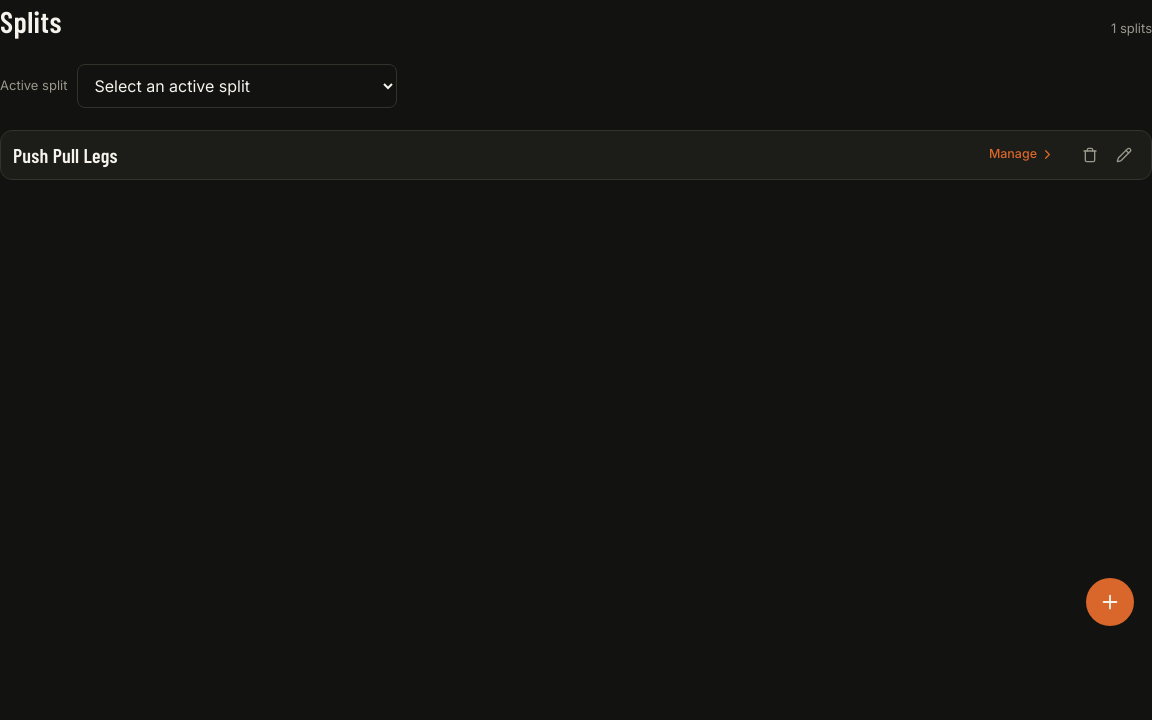
Split builder › creates a split for the signed-in user and shows it after the list refreshes
Step 1. Click the button named "Add split" → [1110, 602], box [1086, 578, 1134, 626]
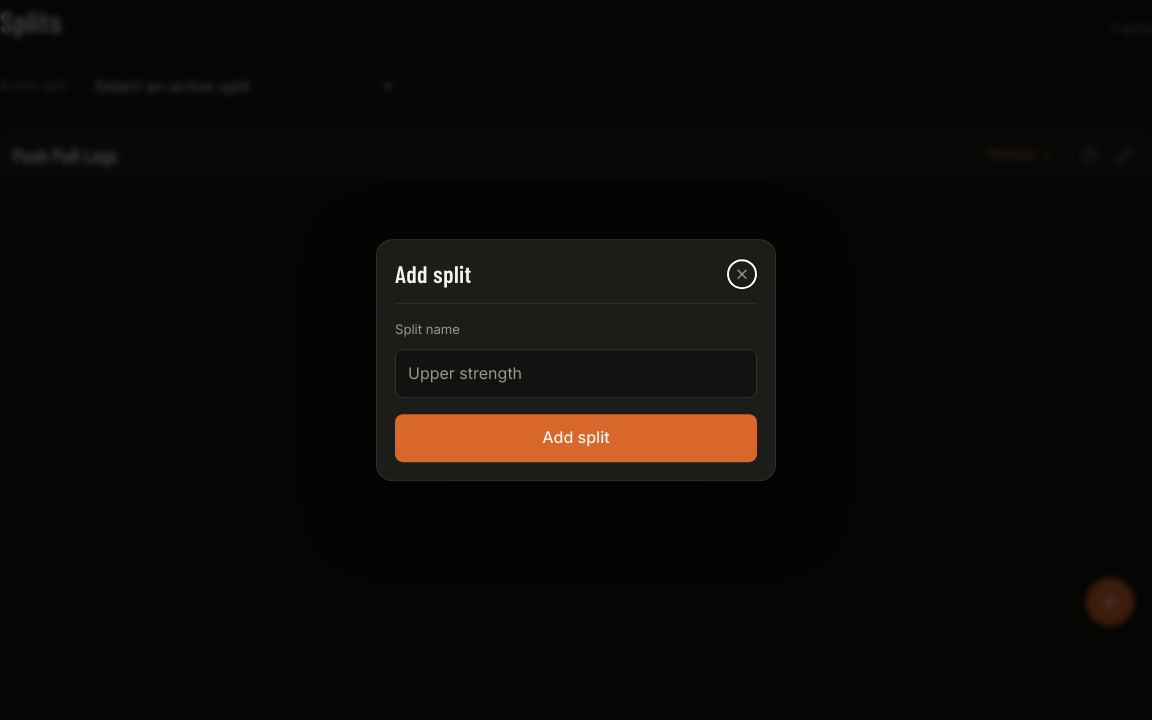
Step 2. Type "  Upper Lower " into the field labelled "Split name" → [576, 374], box [395, 349, 757, 399]
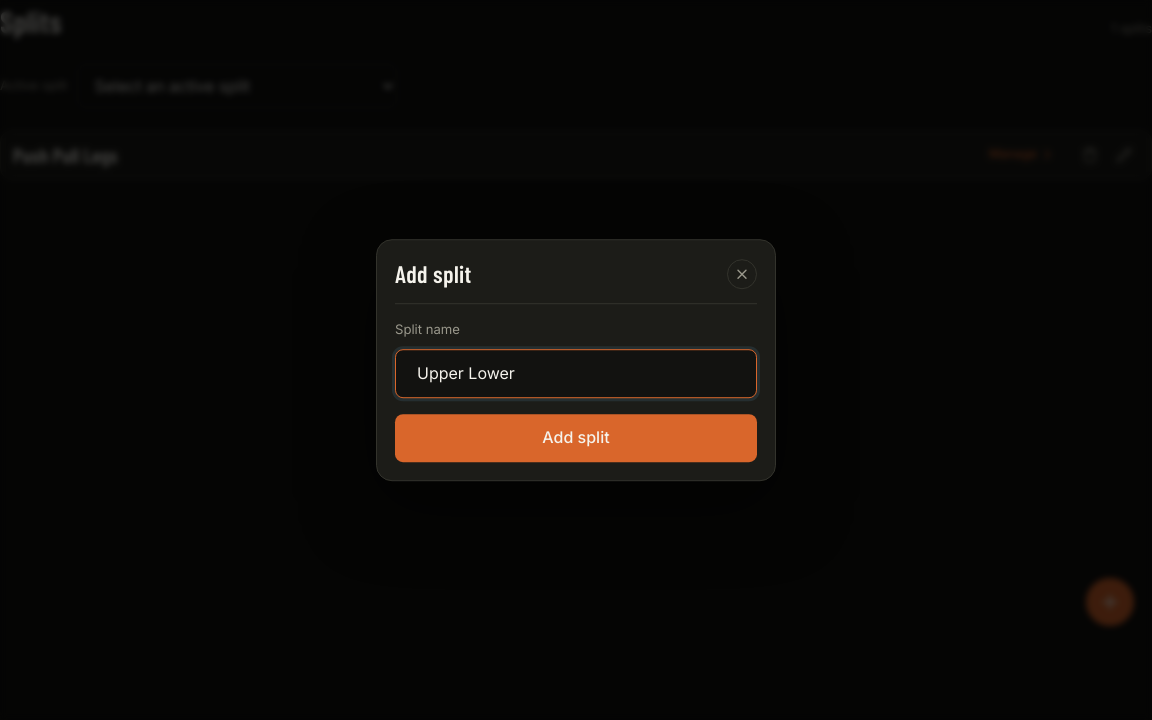
Step 3. Click the button "Add split" → [576, 438], box [395, 415, 757, 462]
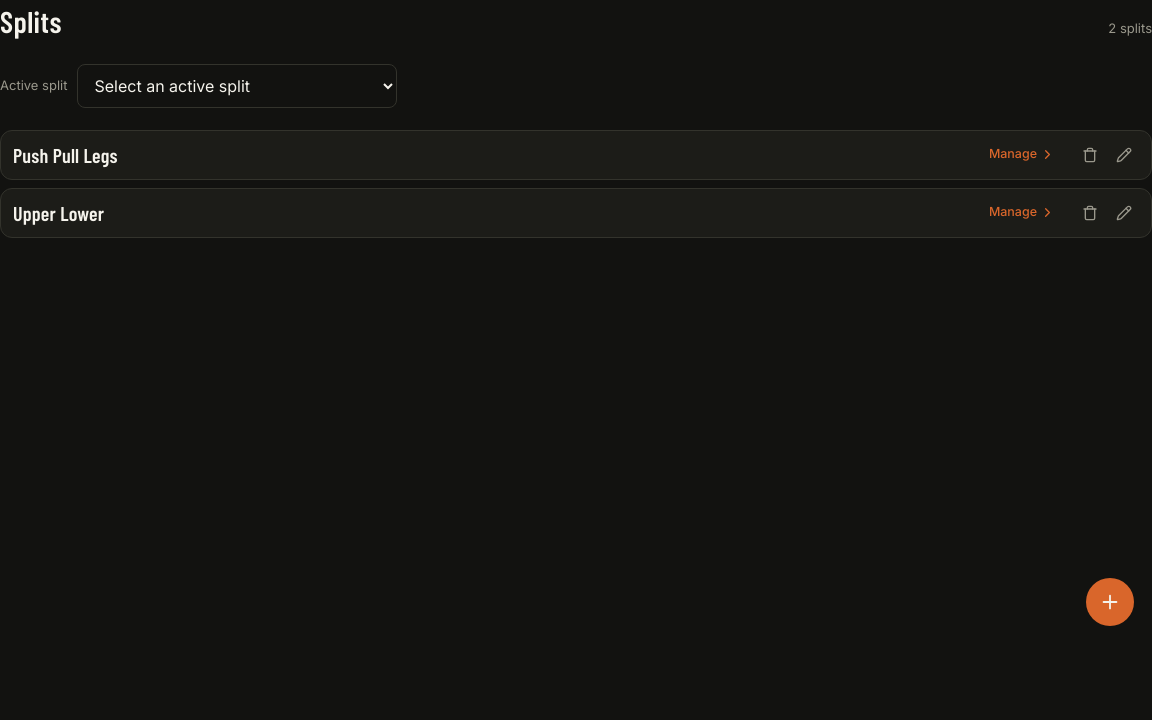
expect the heading "Upper Lower" is shown: met, box [13, 200, 104, 226]
